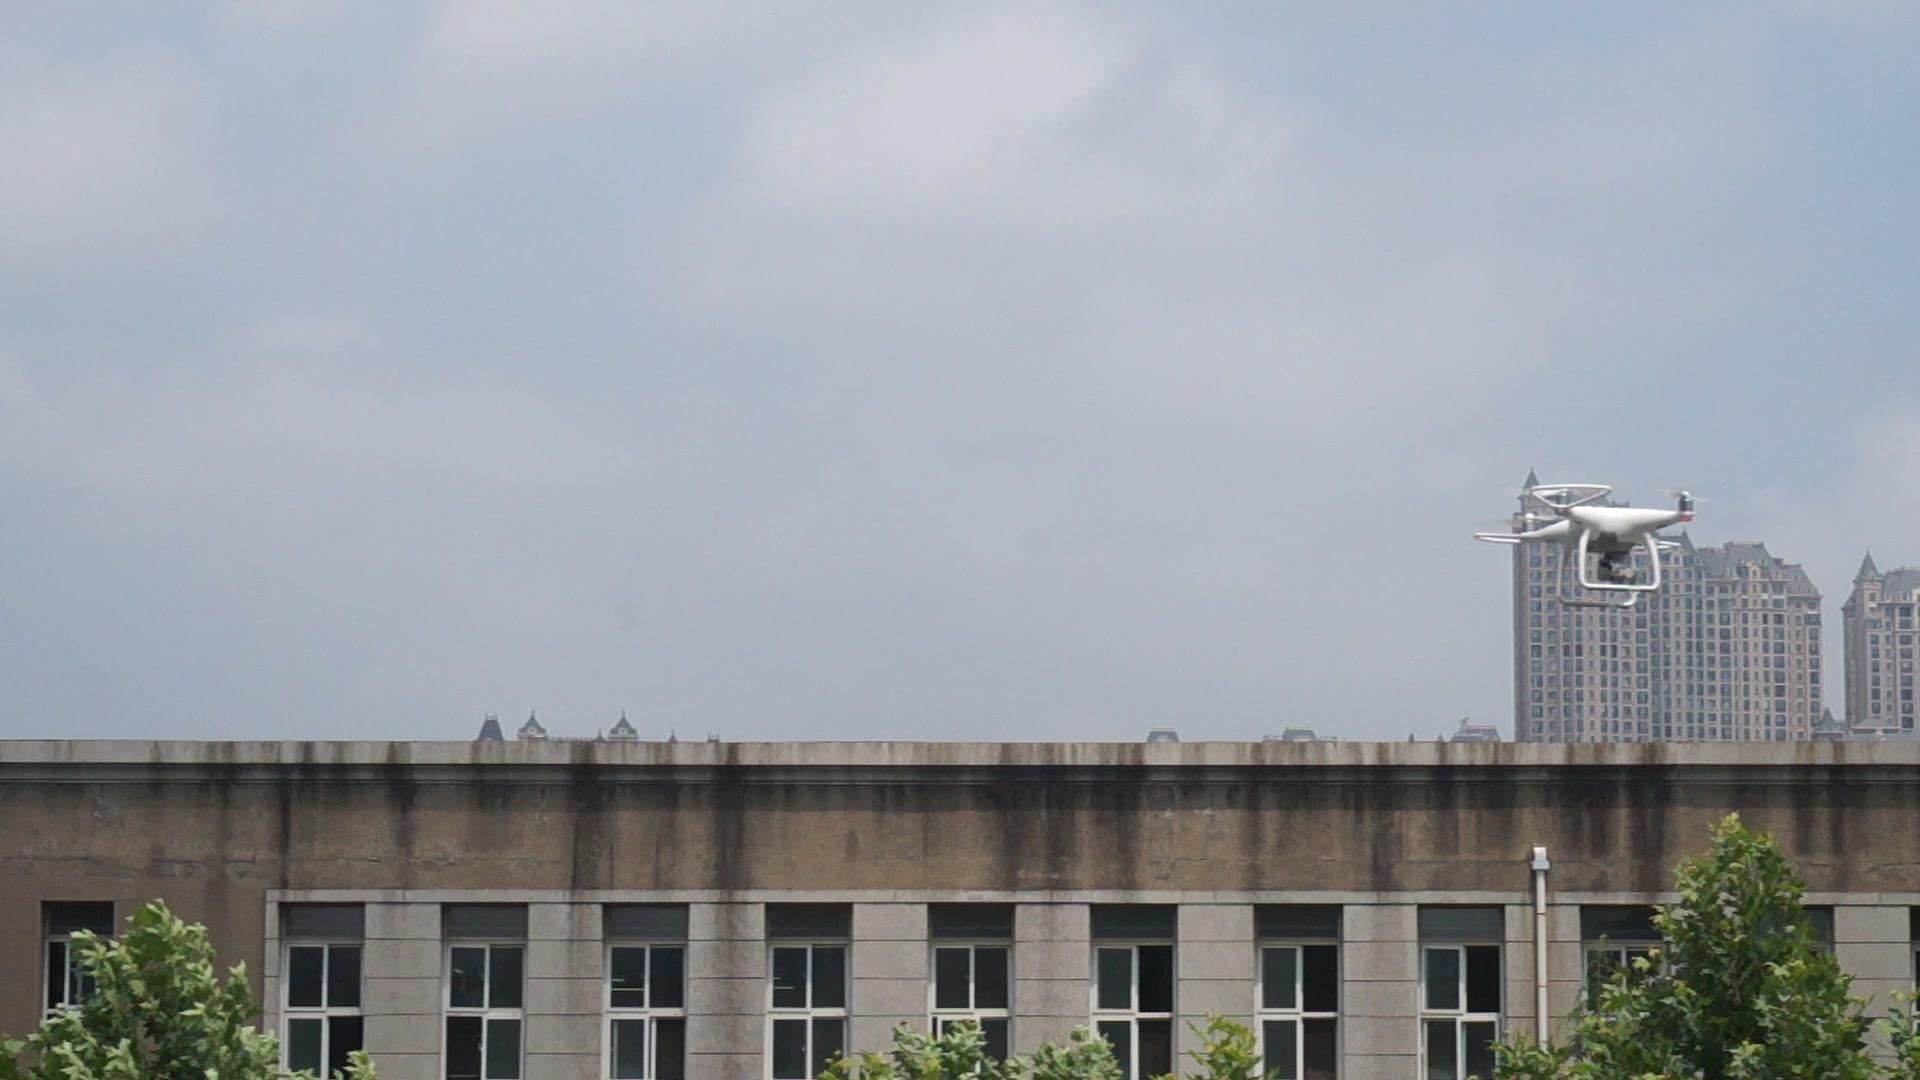UAV: (1476, 487, 1708, 611)
